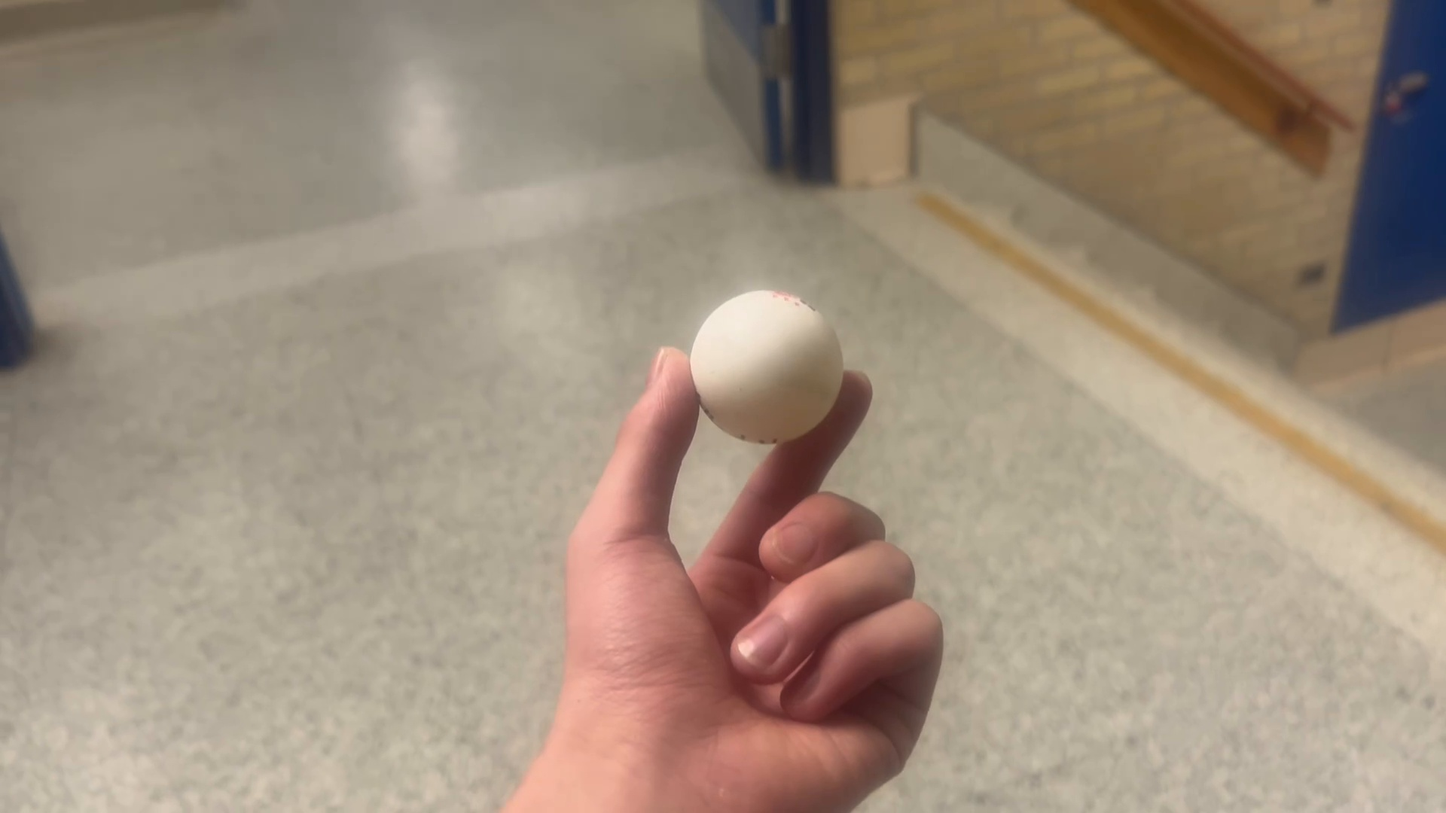Ball: (692, 288, 851, 437)
